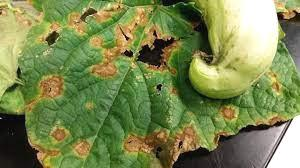Bok-Choy-Diseased: (12, 0, 191, 167)
